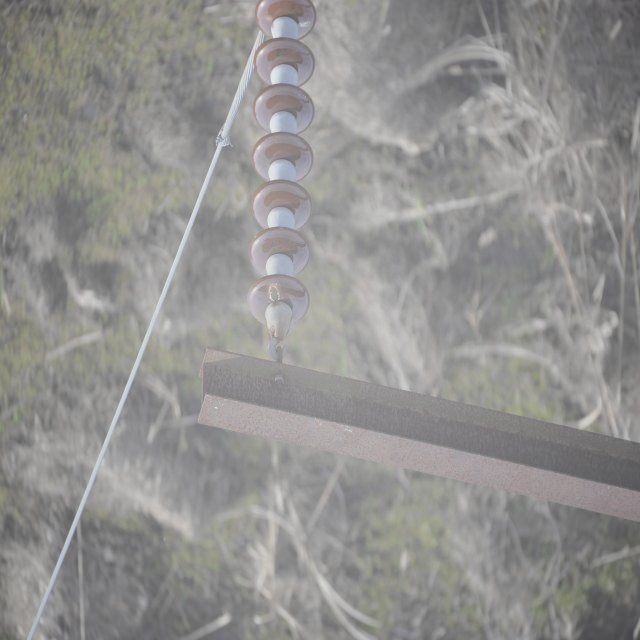insulator: (246, 0, 317, 327)
